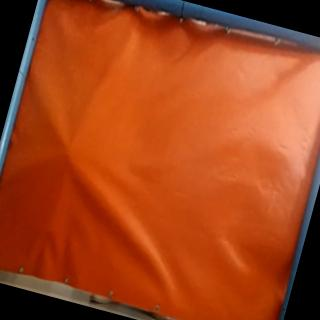Hit-hRxx: (59, 146, 75, 160)
